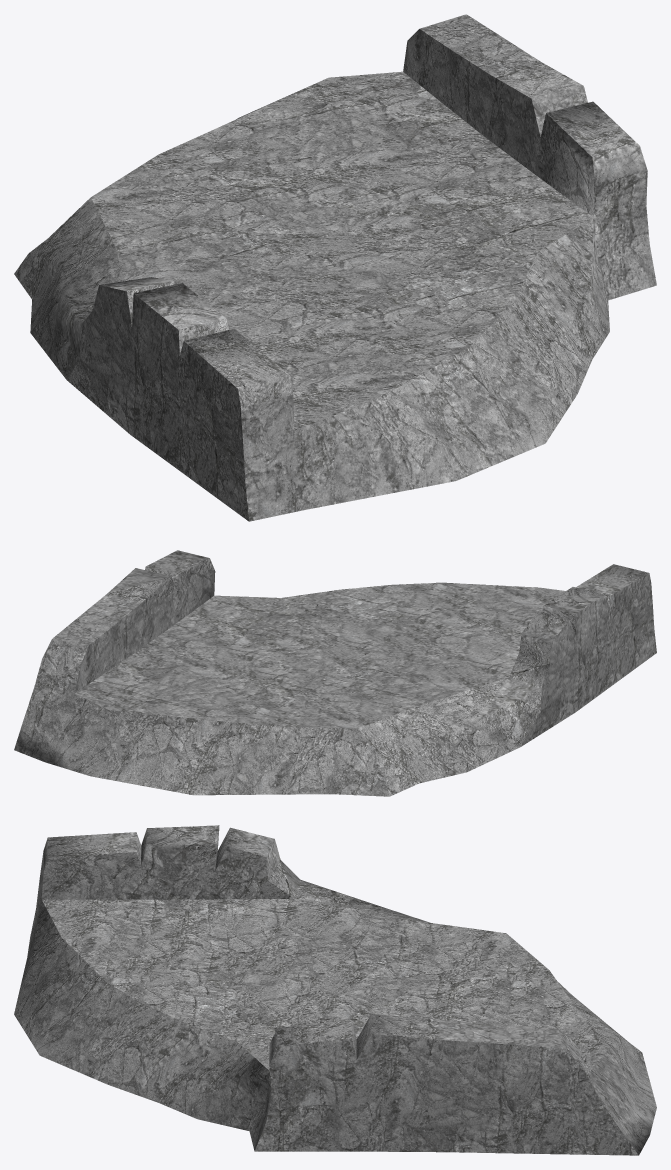
Rendered from materials_3_road_6.fbx.
3 views of the same model, one above another, from view 1: azimuth 30°, elevation 25°; view 2: azimuth 150°, elevation 25°; view 3: azimuth 270°, elevation 25° (orthographic). The views are drawn at different scales.
Parts seen in each view (by area): view 1: materials_3_road_6; view 2: materials_3_road_6; view 3: materials_3_road_6.
Part boxes in pixels (x1=…): materials_3_road_6: x1=14, y1=14, x2=656, y2=521; materials_3_road_6: x1=14, y1=550, x2=656, y2=796; materials_3_road_6: x1=14, y1=825, x2=656, y2=1155.
Size of the model in its own units: 238 by 59.61 by 296.
